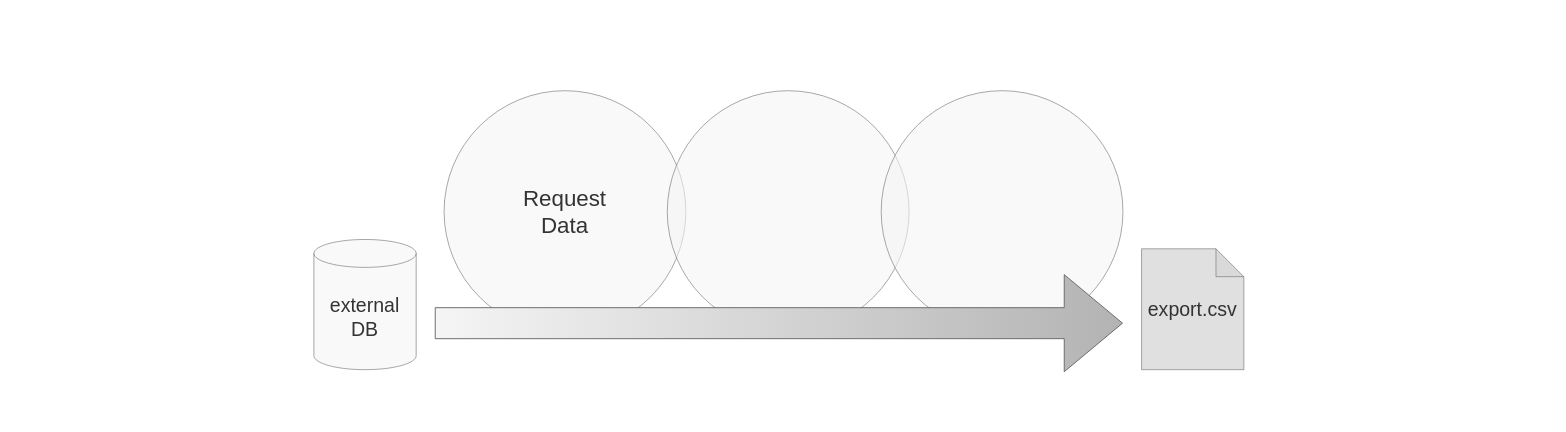
Some shapes in this 1566 by 432 pixel diagram are drawn without their labels. The box of each missing label's shape, as (x1, y1, x2, y2) in pixels:
Efficient Saving: (880, 90, 1123, 332)
Parsing to Dataframe: (666, 90, 909, 332)
